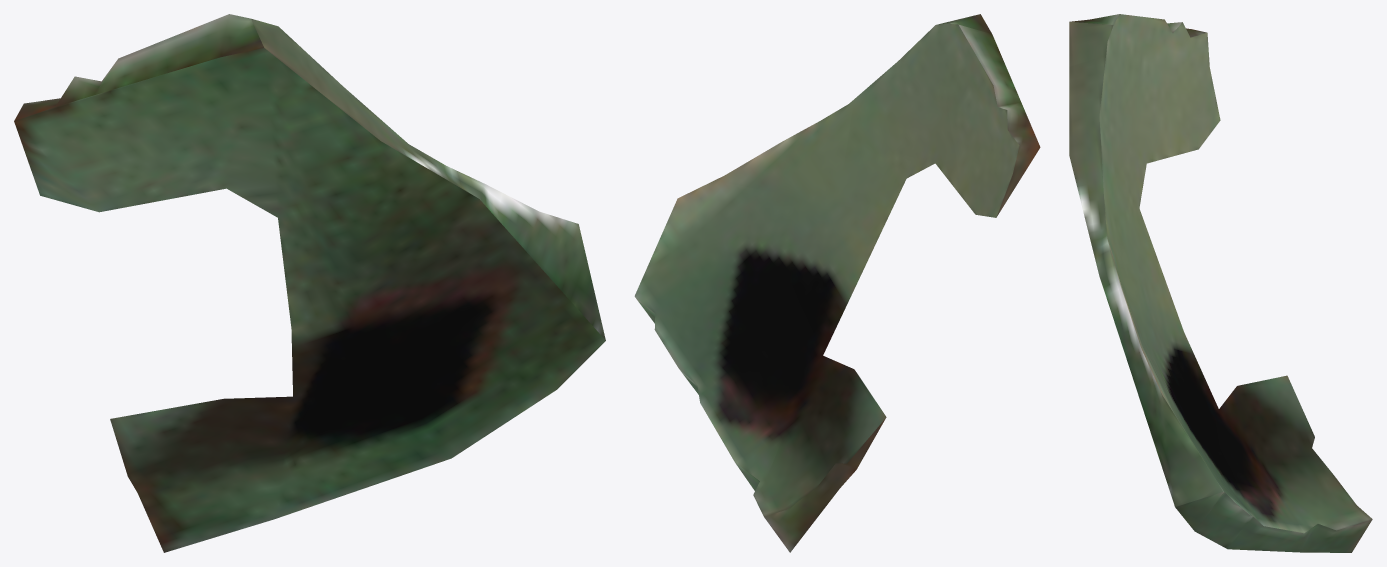
Rendered from Ceramic004.gltf.
3 renders of one model, left to right at view 1: azimuth 30°, elevation 25°; view 2: azimuth 150°, elevation 25°; view 3: azimuth 270°, elevation 25°, orthographic. The views are drawn at different scales.
Visible parts, largest first — view 1: Ceramic004_002, Ceramic004_003, Ceramic004_001, Ceramic004, Ceramic004_004, Ceramic004_005; view 2: Ceramic004_003, Ceramic004, Ceramic004_004, Ceramic004_001, Ceramic004_002, Ceramic004_005; view 3: Ceramic004_001, Ceramic004, Ceramic004_002, Ceramic004_004, Ceramic004_003, Ceramic004_005.
Part boxes in pixels (x1=…): Ceramic004_002: x1=14, y1=14, x2=303, y2=212; Ceramic004_003: x1=247, y1=214, x2=548, y2=527; Ceramic004_001: x1=145, y1=37, x2=417, y2=290; Ceramic004: x1=110, y1=289, x2=362, y2=552; Ceramic004_004: x1=308, y1=214, x2=605, y2=507; Ceramic004_005: x1=384, y1=138, x2=547, y2=264; Ceramic004_003: x1=713, y1=181, x2=839, y2=497; Ceramic004: x1=755, y1=234, x2=886, y2=552; Ceramic004_004: x1=634, y1=181, x2=736, y2=458; Ceramic004_001: x1=830, y1=31, x2=960, y2=247; Ceramic004_002: x1=929, y1=14, x2=1040, y2=217; Ceramic004_005: x1=714, y1=100, x2=853, y2=209; Ceramic004_001: x1=1069, y1=55, x2=1179, y2=314; Ceramic004: x1=1157, y1=289, x2=1372, y2=552; Ceramic004_002: x1=1069, y1=14, x2=1220, y2=154; Ceramic004_004: x1=1134, y1=360, x2=1301, y2=551; Ceramic004_003: x1=1121, y1=296, x2=1340, y2=552; Ceramic004_005: x1=1080, y1=190, x2=1145, y2=358.
Size of the model in its own units: 0.1004 by 0.1114 by 0.0605.
1 material, 1 textured.
